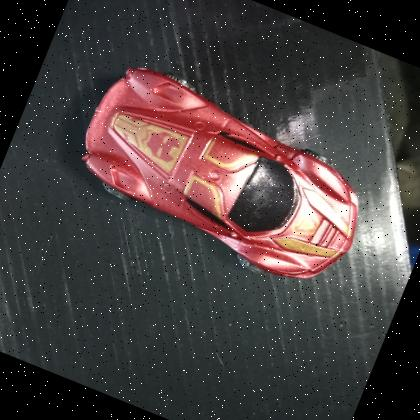Car: (52, 44, 394, 310)
